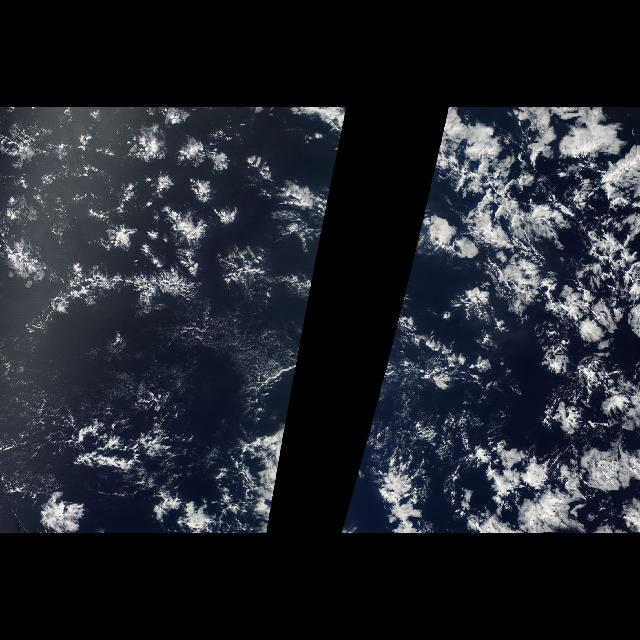Flower: (439, 169, 619, 517), (49, 118, 333, 326)
